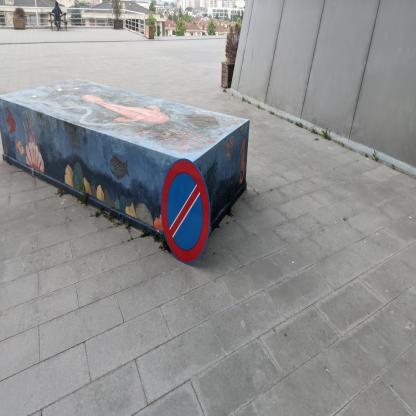No Waiting: (164, 160, 212, 264)
